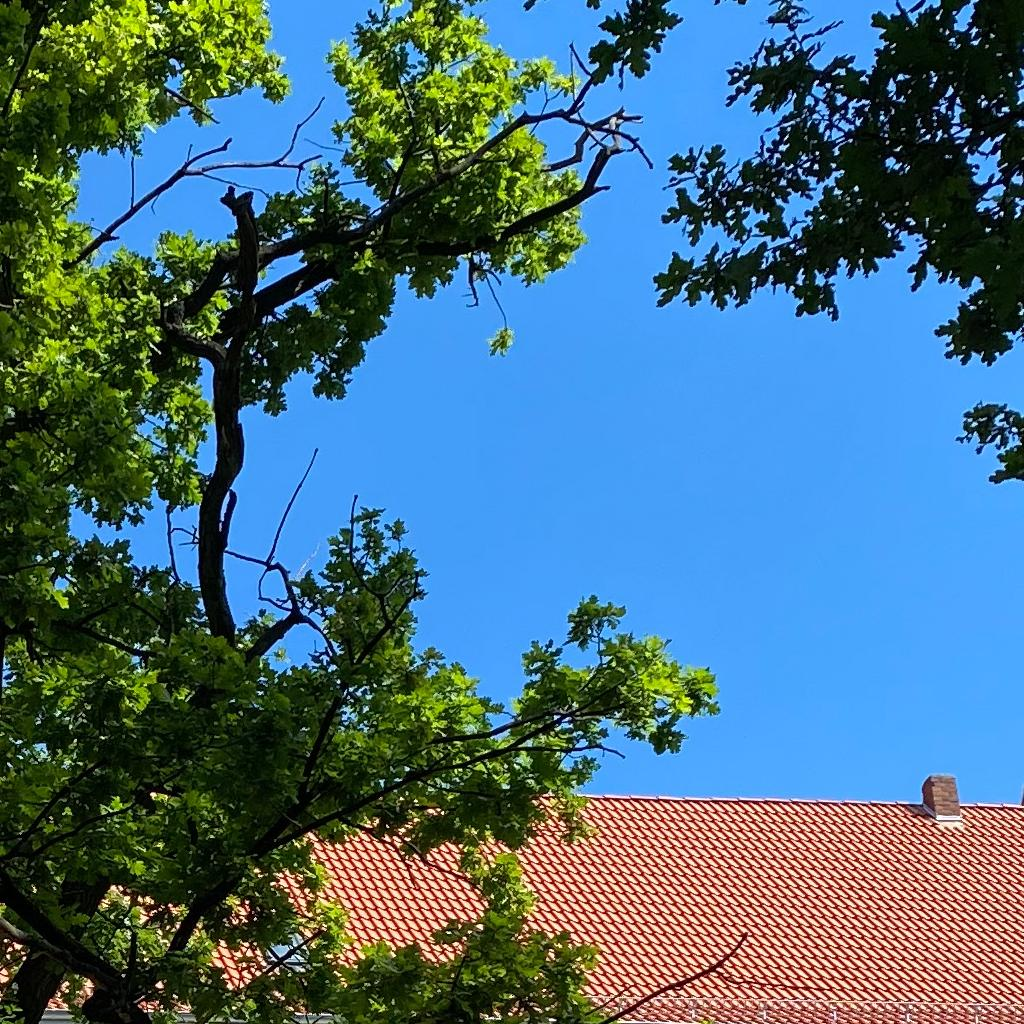tree: (1, 1, 720, 1024), (522, 1, 1024, 486)
